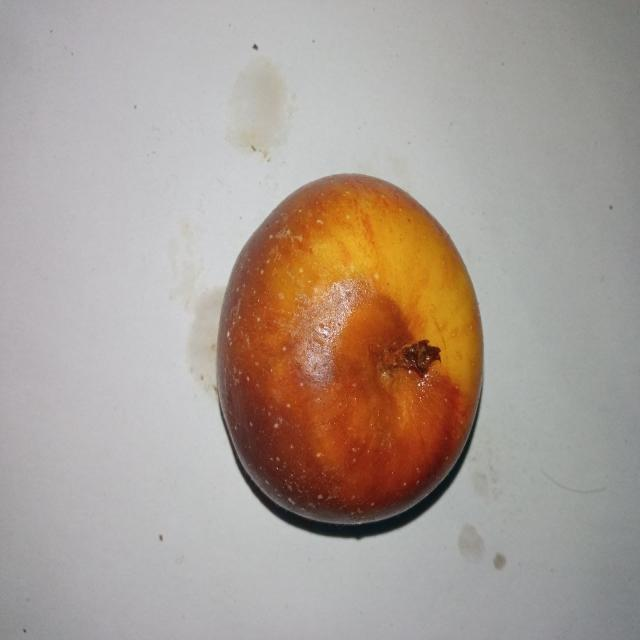rotten_apple: (219, 175, 483, 524)
